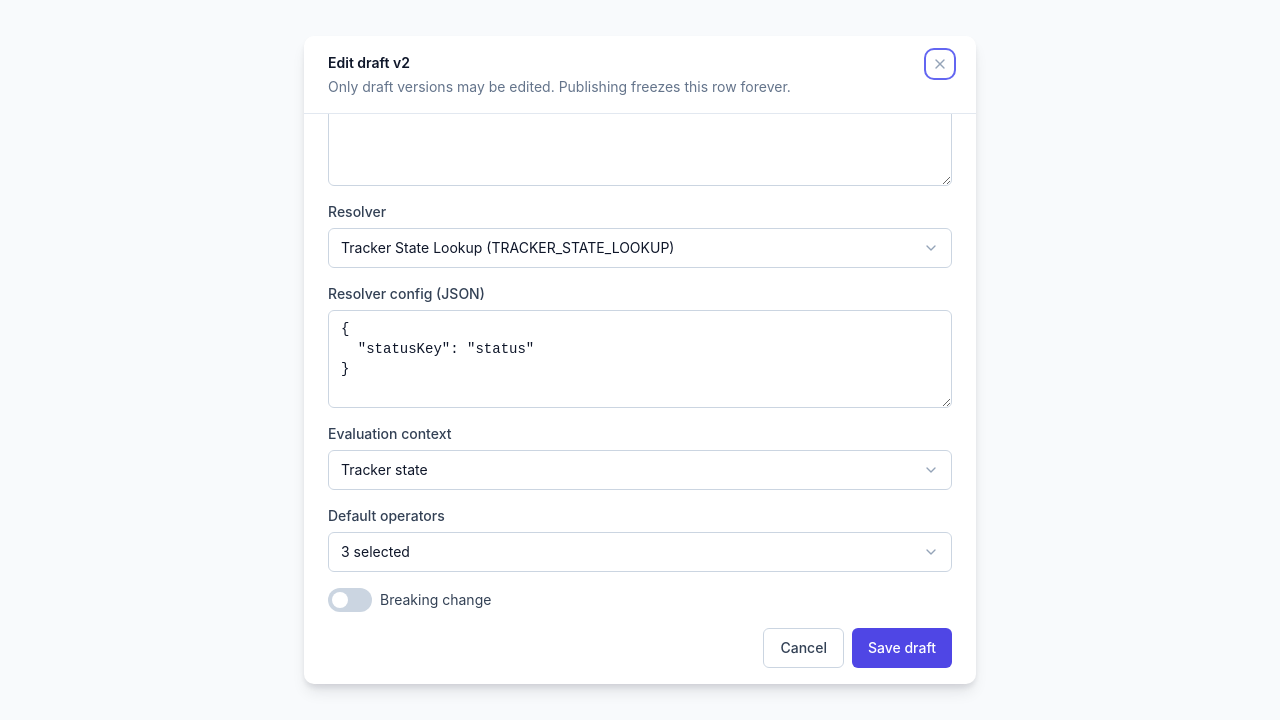
Test case: EditVersionDraftModal › implementation note 9: a breaking-confirmation-required error surfaces the override checkbox
(page scrolled)
Click the button "Save draft": (902, 648) [852,628,952,668]
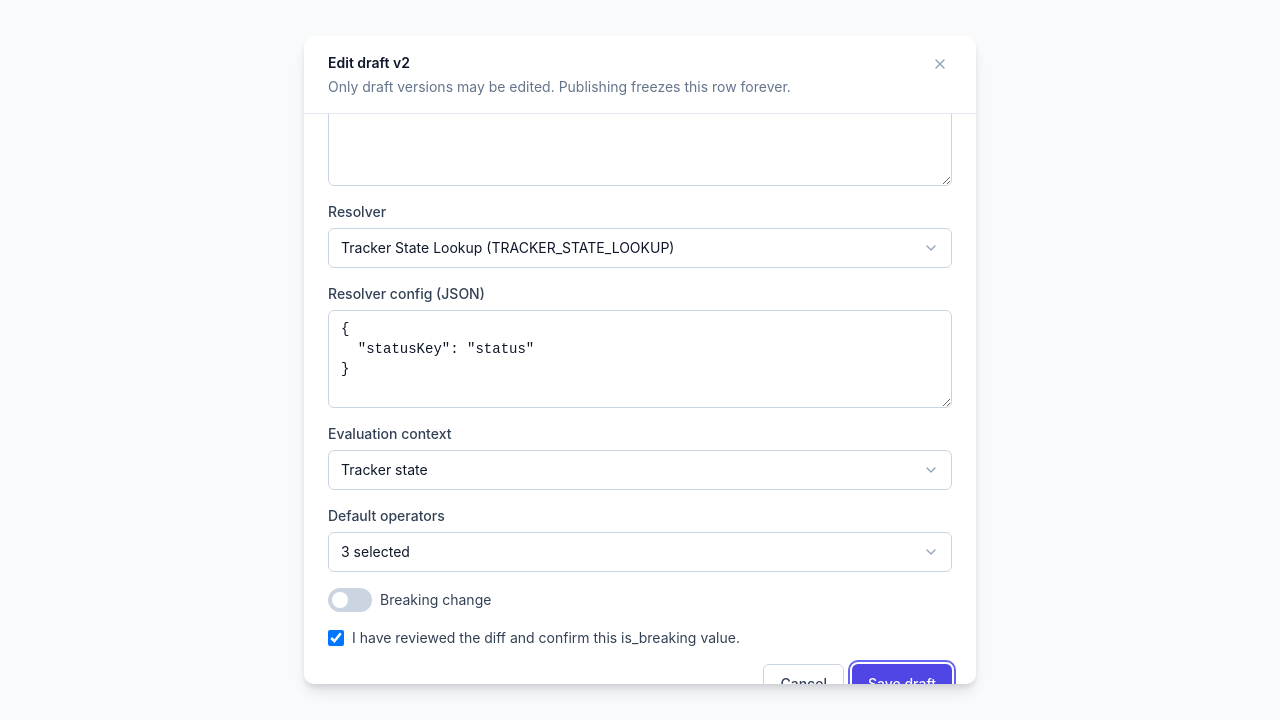
expect the checkbox labelled "I have reviewed the diff and confirm this is_breaking value." is shown: met, box [328,630,344,646]
